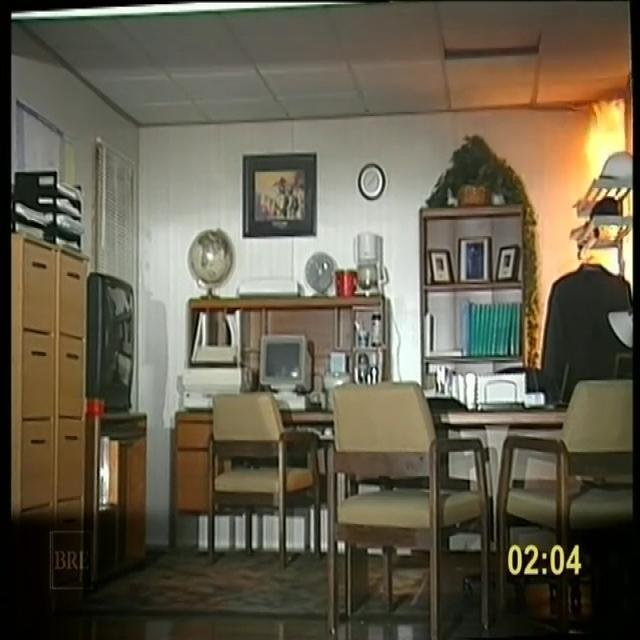Fire: (560, 46, 640, 206)
